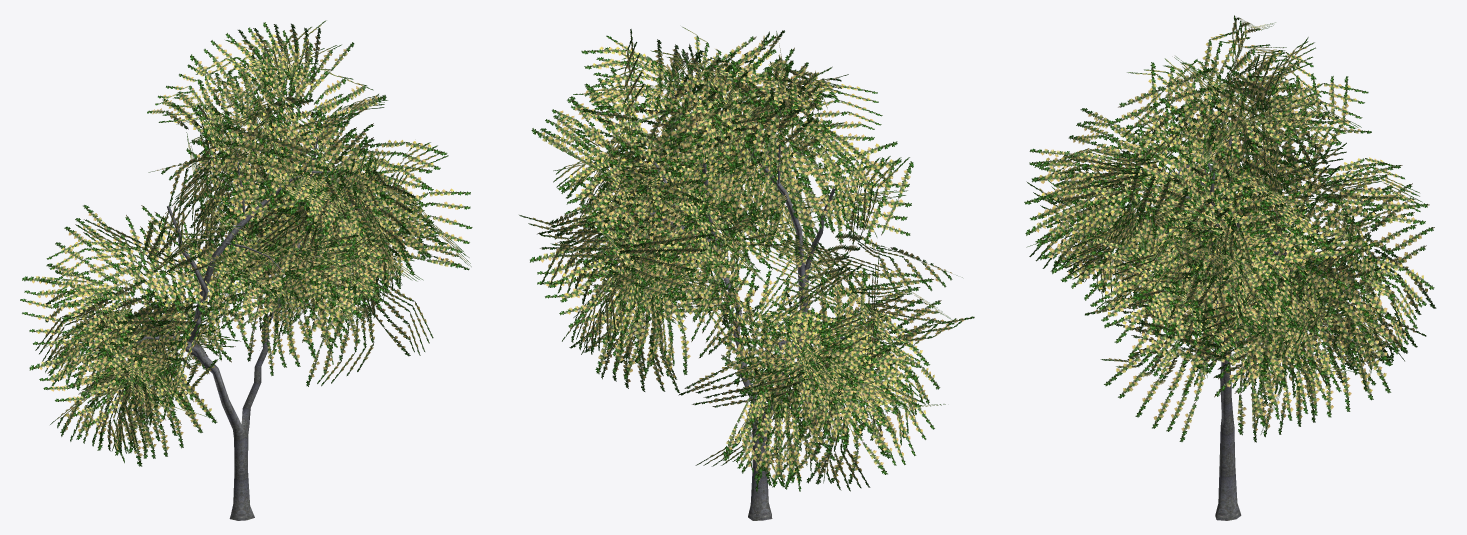
The model's file is Parkinsonia_Aculeata_Spring_Young.glb.
3 views of the same model, side by side, from view 1: azimuth 30°, elevation 25°; view 2: azimuth 150°, elevation 25°; view 3: azimuth 270°, elevation 25° (orthographic). The views are drawn at different scales.
Visible parts, largest first — view 1: Parkinsonia_Aculeata_Spring_Young__LOD3; view 2: Parkinsonia_Aculeata_Spring_Young__LOD3; view 3: Parkinsonia_Aculeata_Spring_Young__LOD3.
Part boxes in pixels (bbox=[...]): Parkinsonia_Aculeata_Spring_Young__LOD3: bbox=[20, 20, 472, 520]; Parkinsonia_Aculeata_Spring_Young__LOD3: bbox=[519, 27, 974, 520]; Parkinsonia_Aculeata_Spring_Young__LOD3: bbox=[1024, 15, 1436, 520].
Bounding box in the file's own units: 3.66 × 4.07 × 3.28.
Materials: 2 (2 with a texture image).
